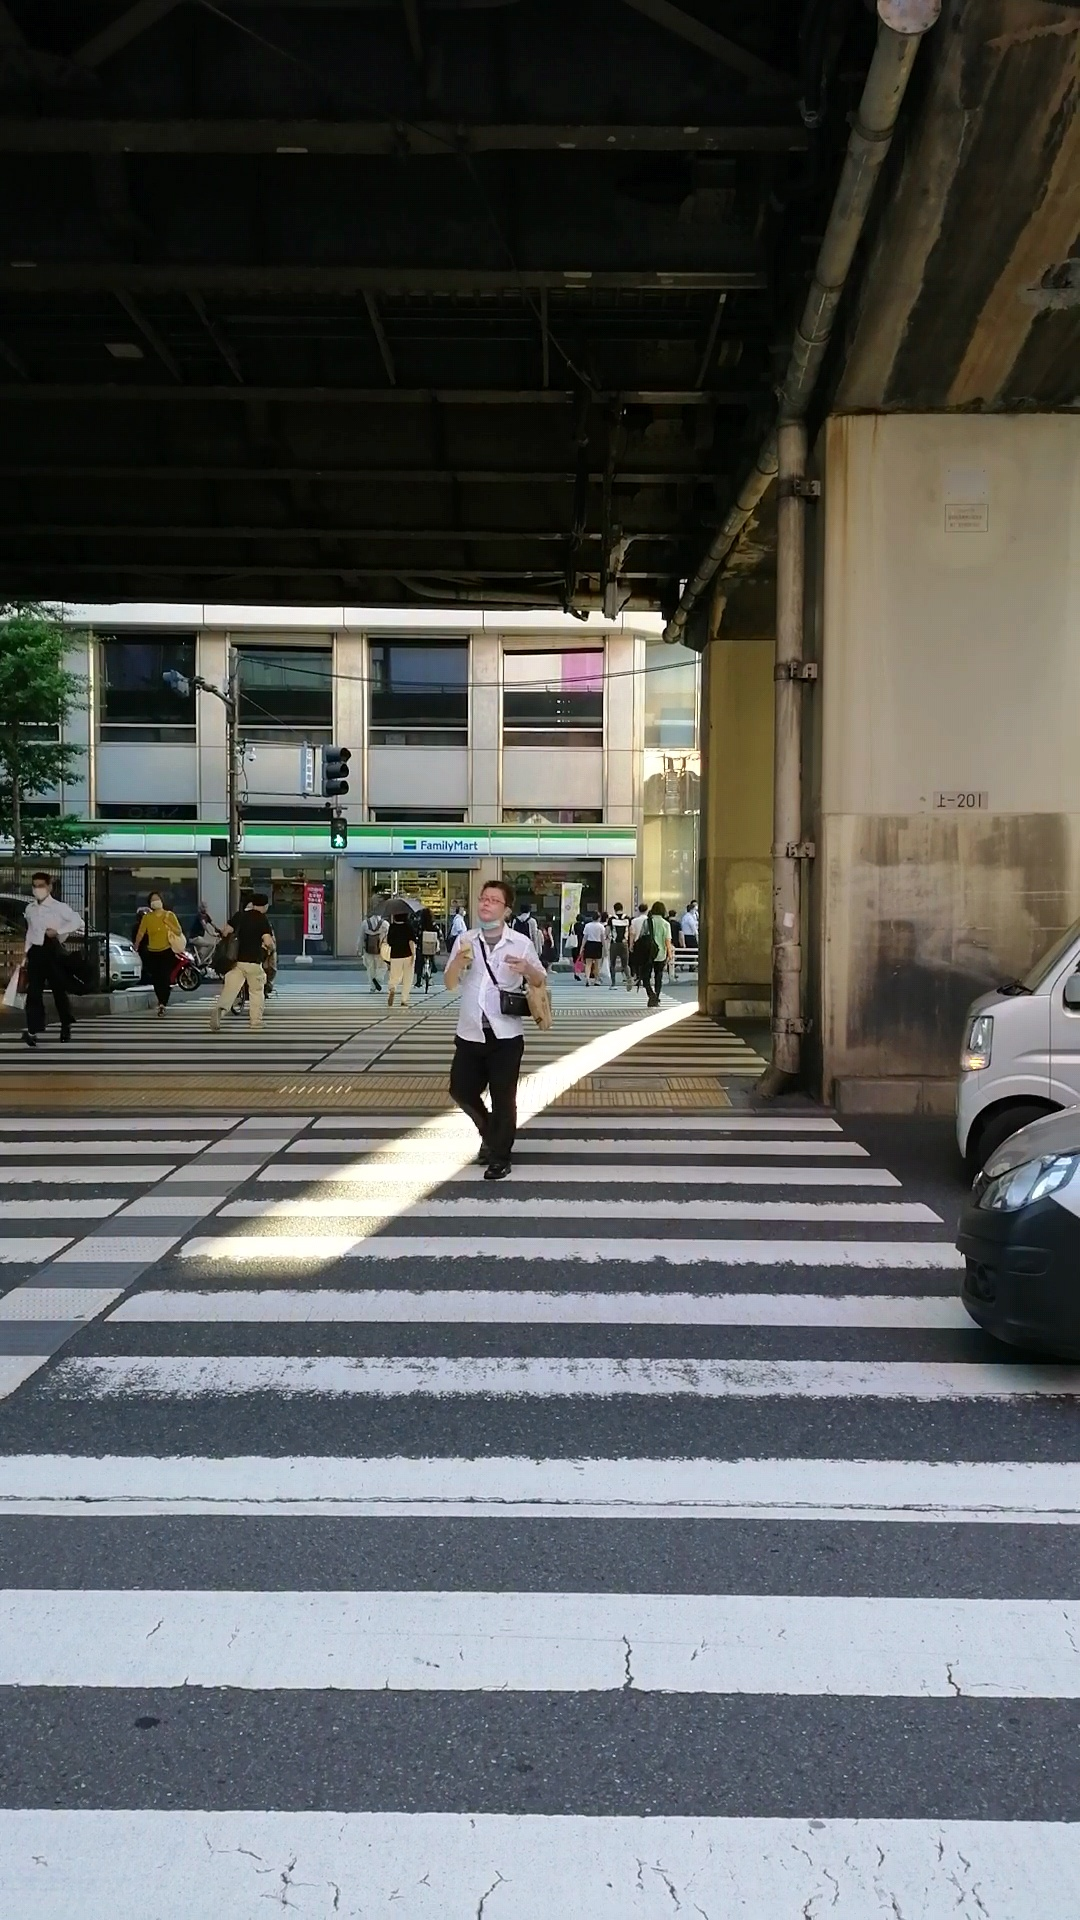green: (327, 816, 347, 851)
